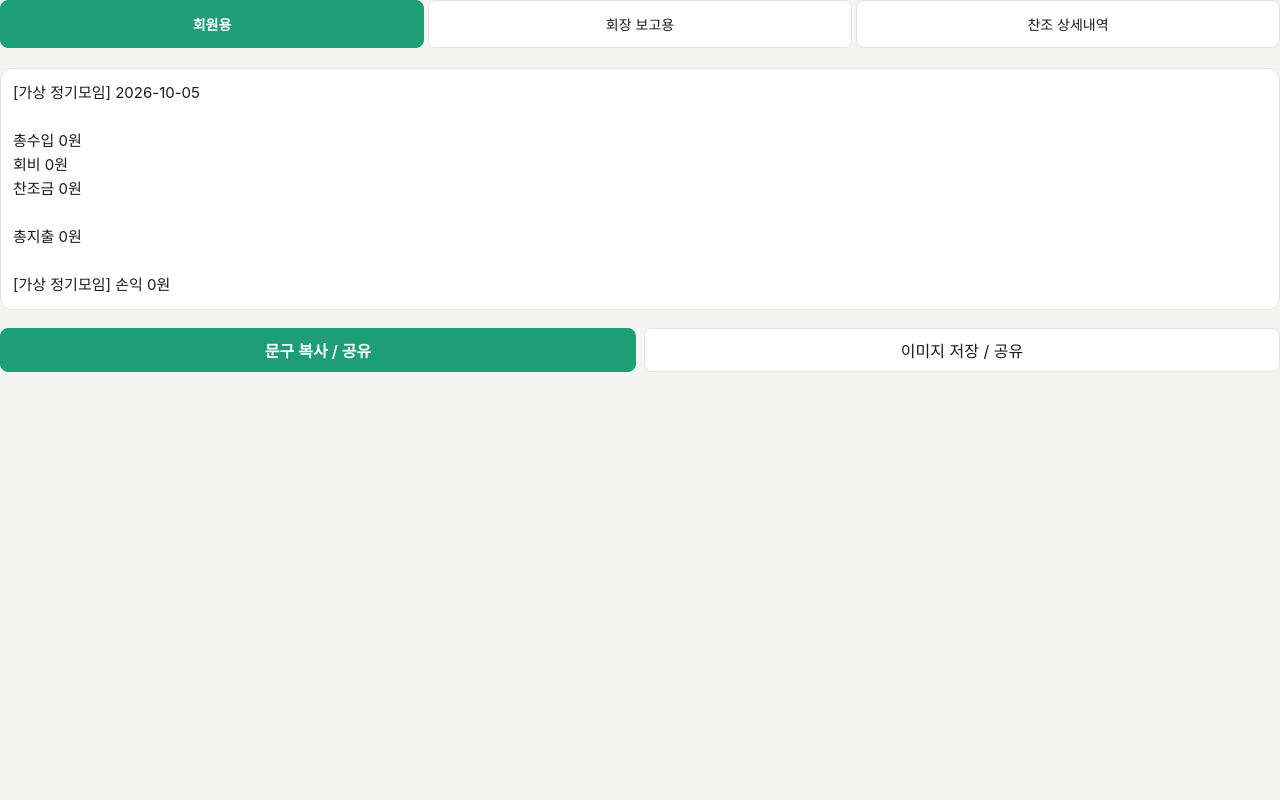
it: 공유 탭 화면 › 확정된 찬조가 없으면 "확인된 찬조금 내역이 없습니다."가 보이고, 물품찬조도 없으면 공유 버튼이 꺼진다
The width and height of the screenshot is (1280, 800).
Click the button "찬조 상세내역". click: [1068, 24]
box: [856,0,1279,48]
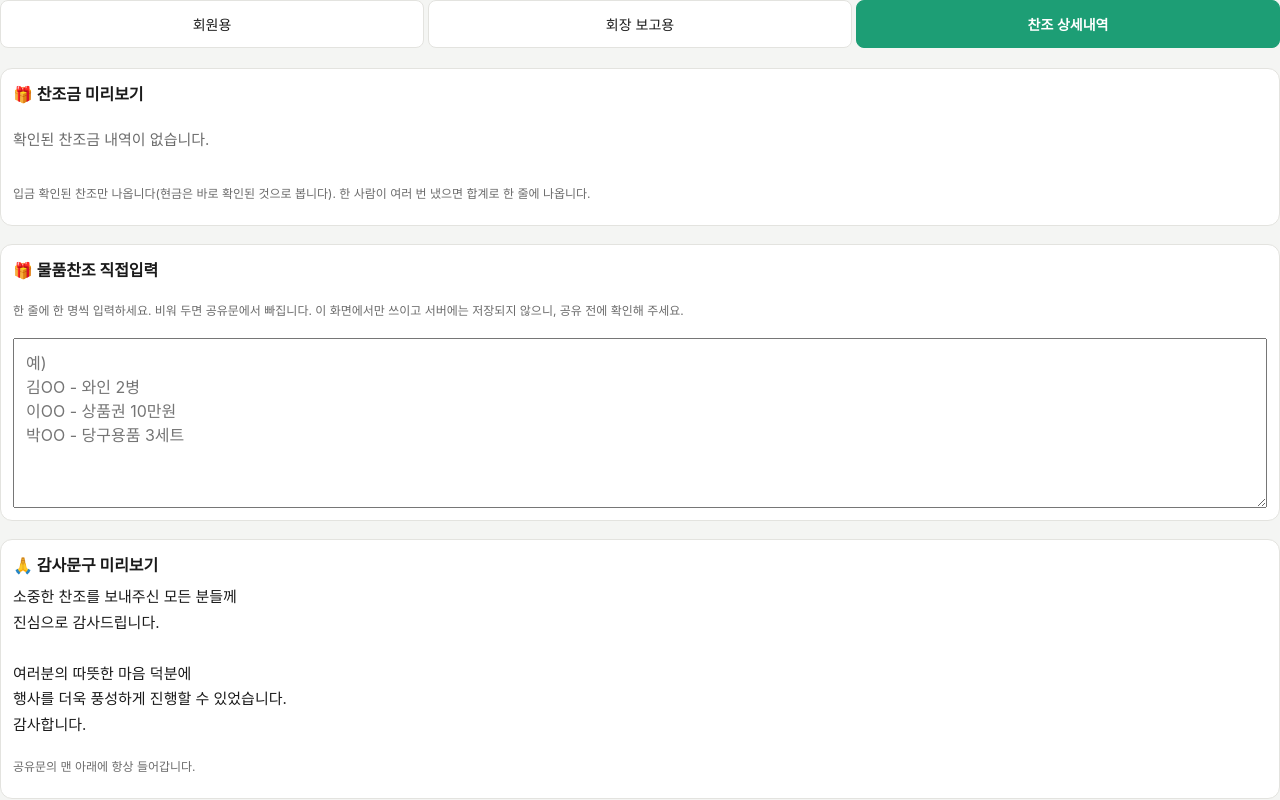
Expected: the text "확인된 찬조금 내역이 없습니다." is shown, [13,130,209,149]
Type "김가상 - 와인 2병" into the text box labelled "🎁 물품찬조 직접입력". click: [640, 423]
box: [13,338,1267,508]
(page scrolled)
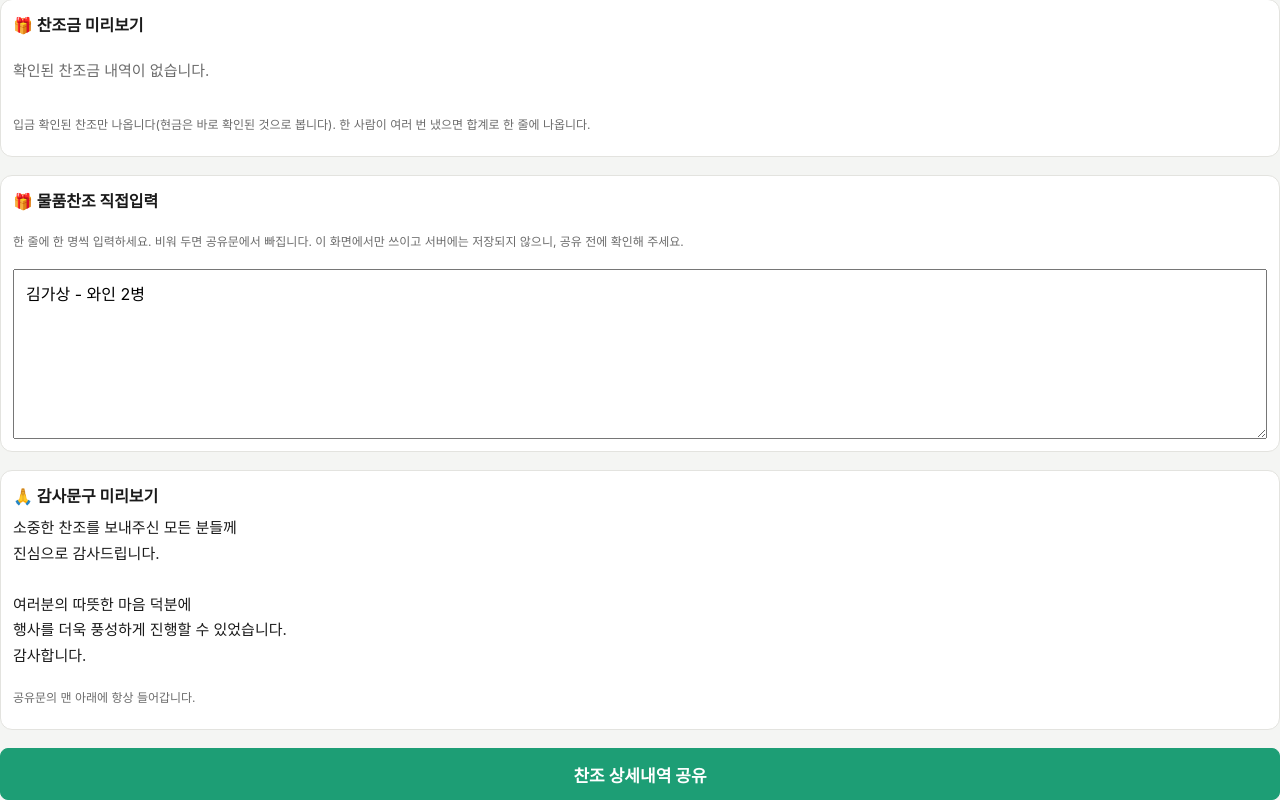
Expected: the button "찬조 상세내역 공유" is enabled, [0,748,1279,799]
